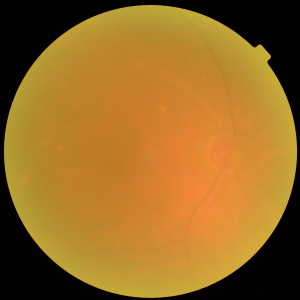cataract: (71, 95, 265, 212)
